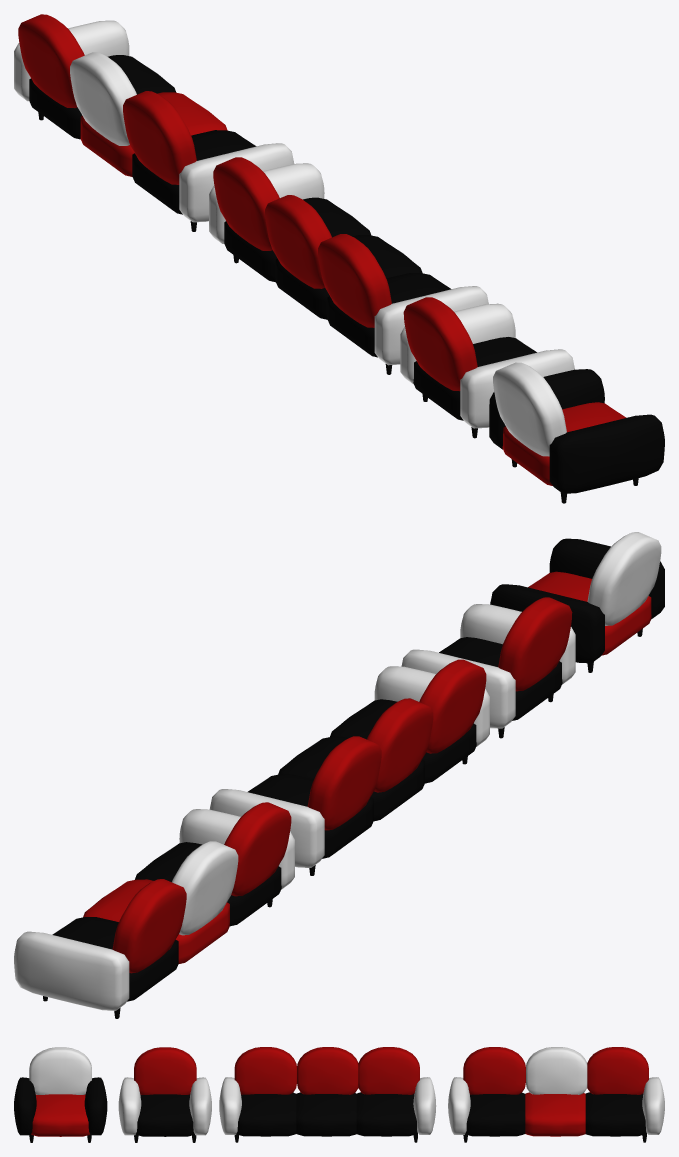
The model's file is Sofas_Final.fbx.
3 views of the same model, one above another, from view 1: azimuth 30°, elevation 25°; view 2: azimuth 150°, elevation 25°; view 3: azimuth 270°, elevation 25° (orthographic). The views are drawn at different scales.
Visible parts, largest first — view 1: Bracos2, pasted__Bracos1, Bracos, Bracos1, Costas4, Costas, Costas1, pasted__Costas1, Costas2, pasted__Costas2, Costas3, pasted__Costas3 (+8 smaller); view 2: pasted__Bracos1, Bracos2, Bracos1, Bracos, pasted__Costas3, Costas3, Costas, Costas4, pasted__Costas1, Costas1, Costas2, pasted__Costas2 (+8 smaller); view 3: Costas2, pasted__Costas2, pasted__Costas1, Costas1, Costas3, pasted__Costas3, Costas, Costas4, pasted__Assento2, Assento2, Assento3, pasted__Assento3 (+8 smaller).
Part boxes in pixels (<box>): Bracos2: <box>489,369,664,493</box>; pasted__Bracos1: <box>14,20,294,222</box>; Bracos: <box>400,303,574,428</box>; Bracos1: <box>209,163,488,365</box>; Costas4: <box>493,362,566,456</box>; Costas: <box>403,297,477,391</box>; Costas1: <box>318,234,391,327</box>; pasted__Costas1: <box>123,91,196,184</box>; Costas2: <box>265,195,331,288</box>; pasted__Costas2: <box>70,52,136,145</box>; Costas3: <box>213,157,279,250</box>; pasted__Costas3: <box>18,14,84,108</box>; pasted__Bracos1: <box>14,809,294,1010</box>; Bracos2: <box>490,538,664,663</box>; Bracos1: <box>209,666,489,867</box>; Bracos: <box>401,604,575,728</box>; pasted__Costas3: <box>112,879,186,973</box>; Costas3: <box>307,736,381,830</box>; Costas: <box>498,597,572,691</box>; Costas4: <box>587,532,661,625</box>; pasted__Costas1: <box>224,802,291,896</box>; Costas1: <box>419,659,486,753</box>; Costas2: <box>367,698,433,792</box>; pasted__Costas2: <box>172,841,238,935</box>; Costas2: <box>297,1047,358,1094</box>; pasted__Costas2: <box>526,1047,587,1094</box>; pasted__Costas1: <box>463,1047,525,1094</box>; Costas1: <box>234,1047,296,1094</box>; Costas3: <box>358,1047,419,1094</box>; pasted__Costas3: <box>587,1047,648,1094</box>; Costas: <box>134,1047,196,1094</box>; Costas4: <box>29,1047,91,1094</box>; pasted__Assento2: <box>525,1092,585,1136</box>; Assento2: <box>296,1092,356,1136</box>; Assento3: <box>356,1092,417,1136</box>; pasted__Assento3: <box>585,1092,646,1136</box>.
Size of the model in its own units: 334 by 318 by 2693.
